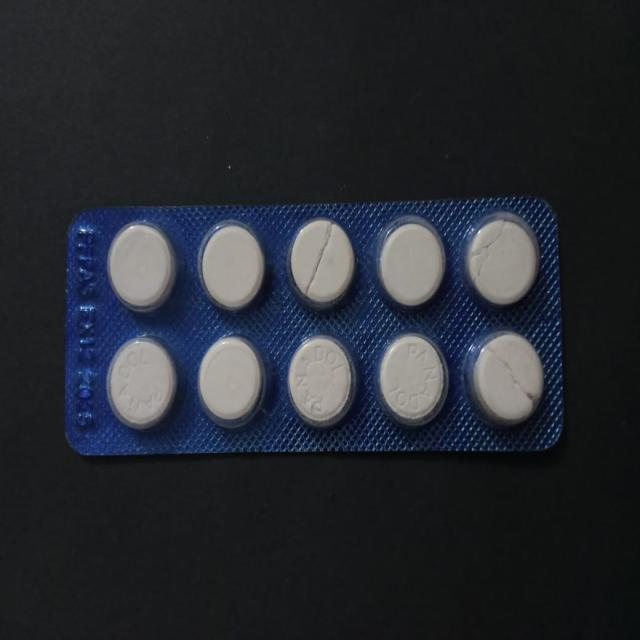defect: (460, 325, 551, 437), (459, 205, 544, 316), (282, 212, 362, 316)
